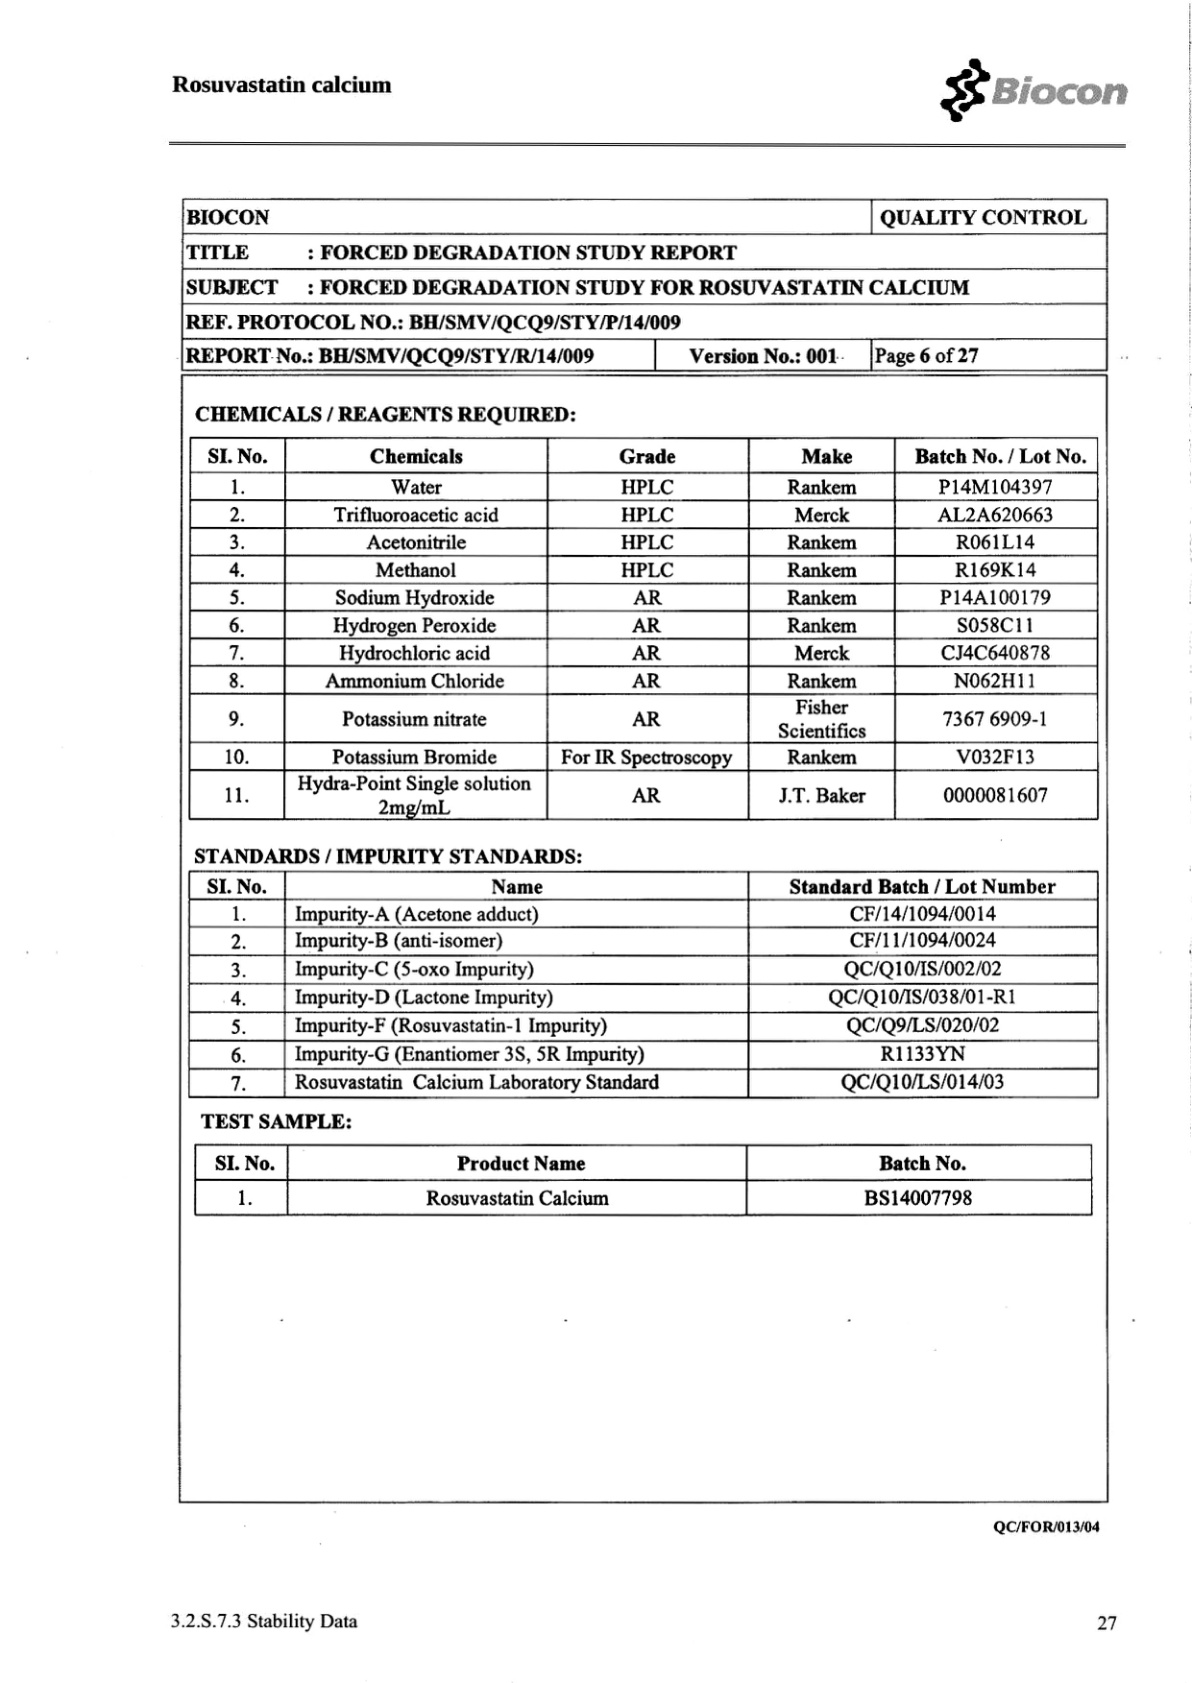full_lined: (190, 435, 1099, 822), (186, 869, 1100, 1100), (192, 1143, 1093, 1217)
merged_cells: (181, 197, 1109, 371)
